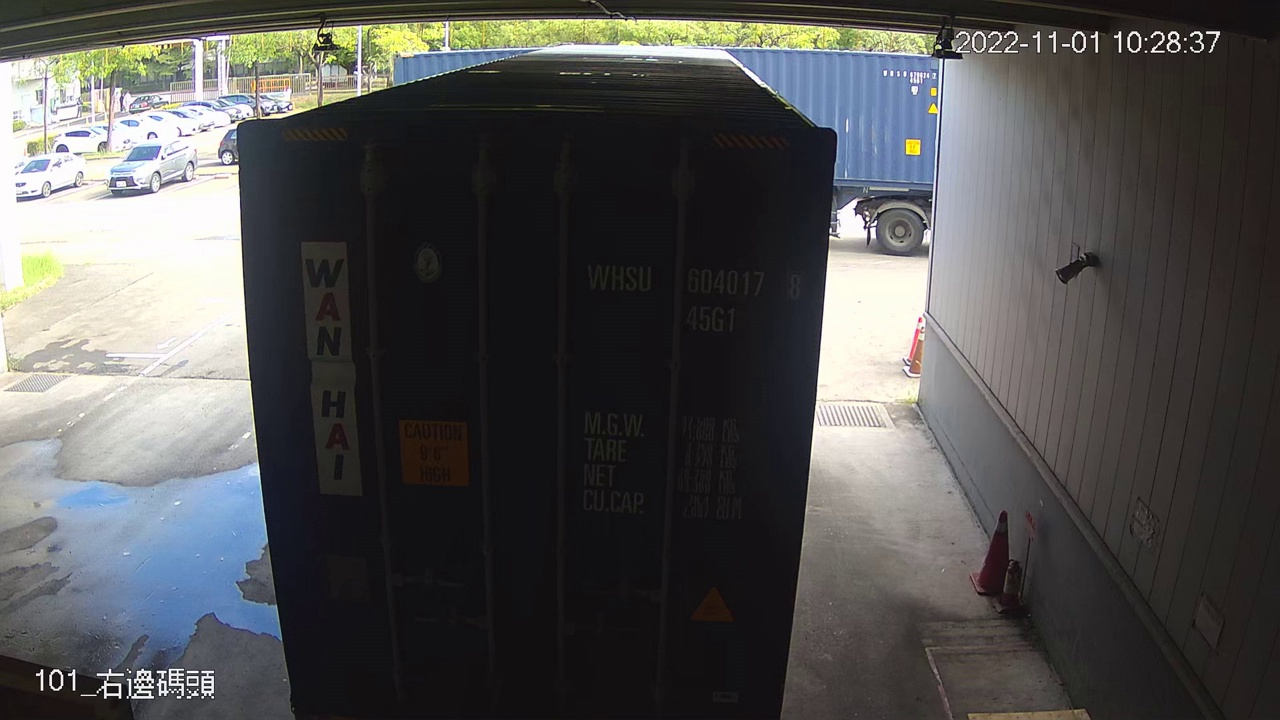container: (576, 251, 815, 341)
